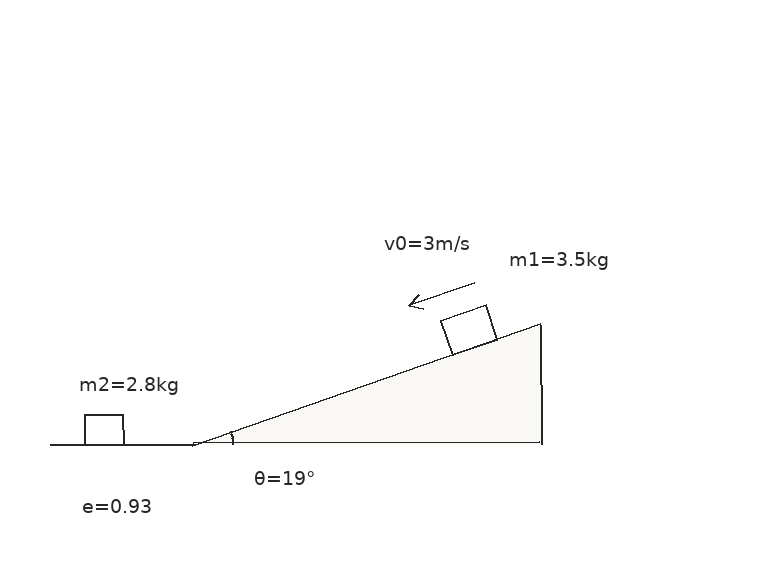block: (438, 303, 500, 357), (82, 413, 126, 446)
ramp: (191, 323, 542, 446)
